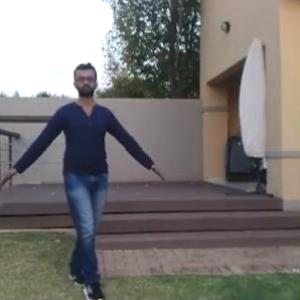land: (16, 73, 152, 281)
